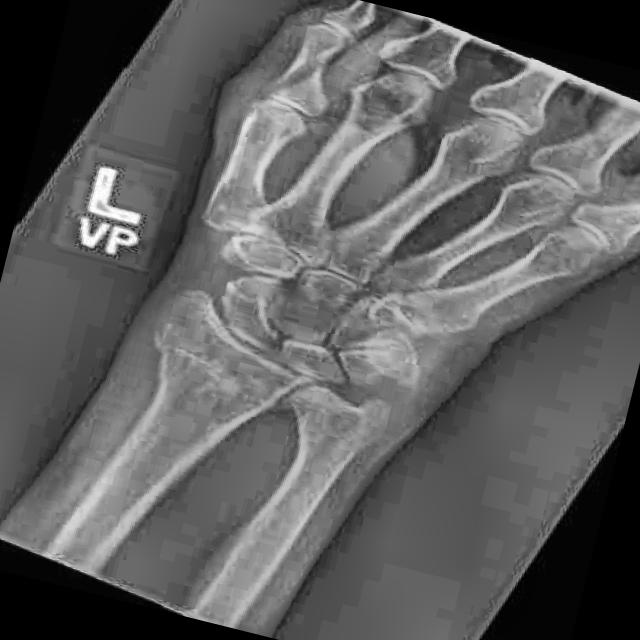fingers positive: (131, 301, 395, 462)
